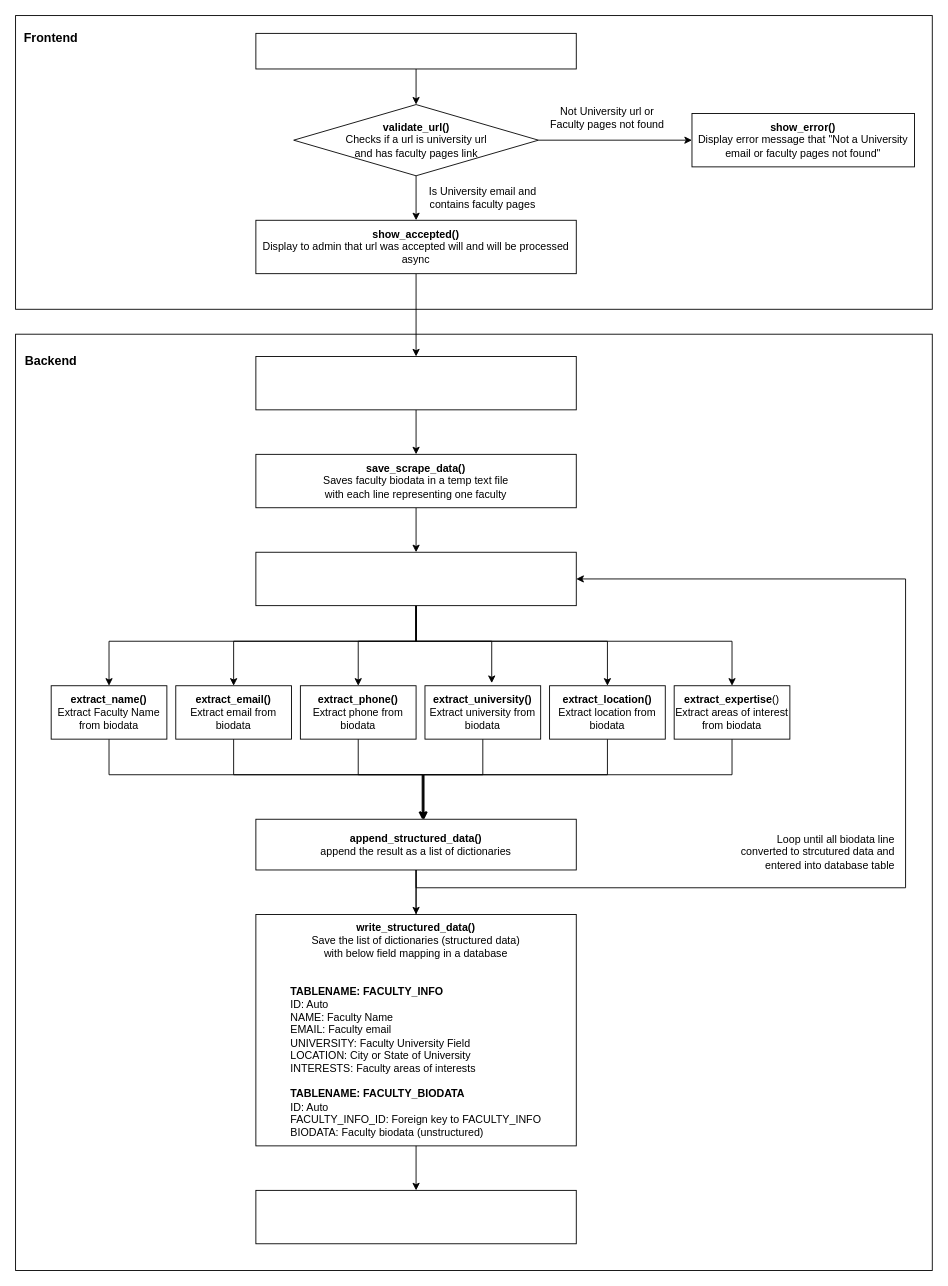
The diagram is 948 pixels wide and 1286 high, and some of its shapes have lost their labels. The box of each missing label's shape, as (x1, y1, x2, y2) in pixels:
Admin enters a URL: (255, 32, 576, 69)
do_cleanup() do any cleanup including deleting the temp file of biodata: (255, 1189, 576, 1244)
scrape_url() scrapes the url and extracts faculty biodata: (255, 356, 576, 410)
to_structured_data(): Read one line at a time and call sub routines: (255, 551, 576, 606)
